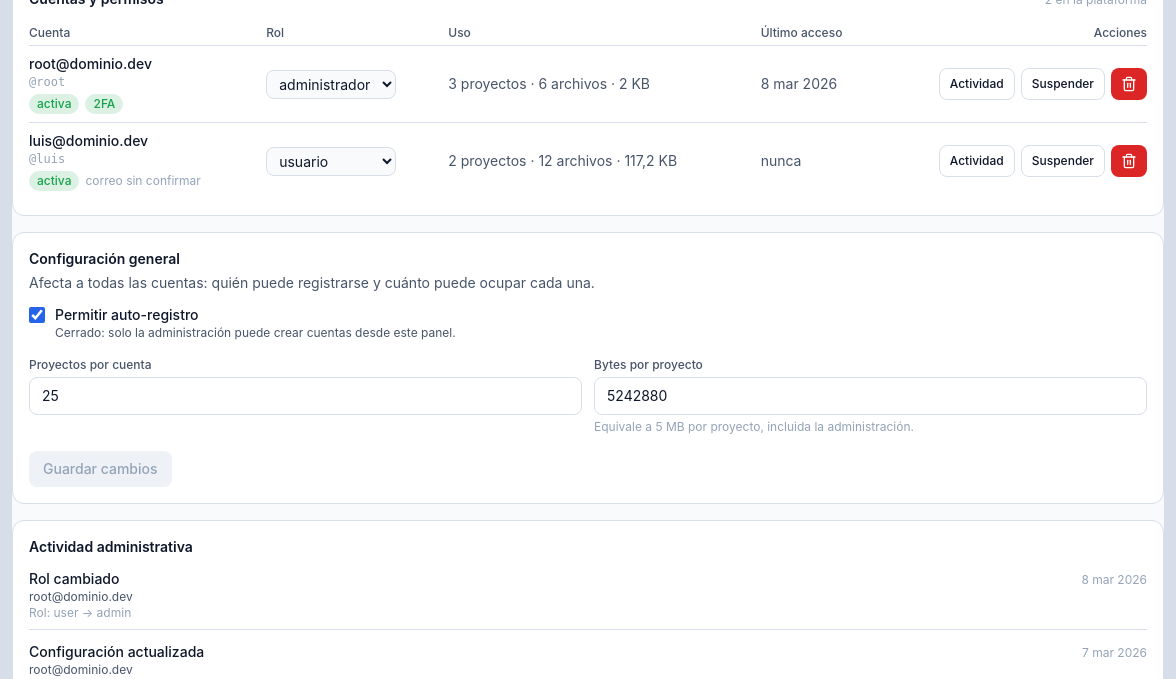
Test: AdminPage › si otra pestaña cambia un valor, el servidor manda
(page scrolled)
Replace the text in the number field labelled "Proyectos por cuenta" with "7" at {"x": 306, "y": 396}, box [29,377,582,415]
(page scrolled)
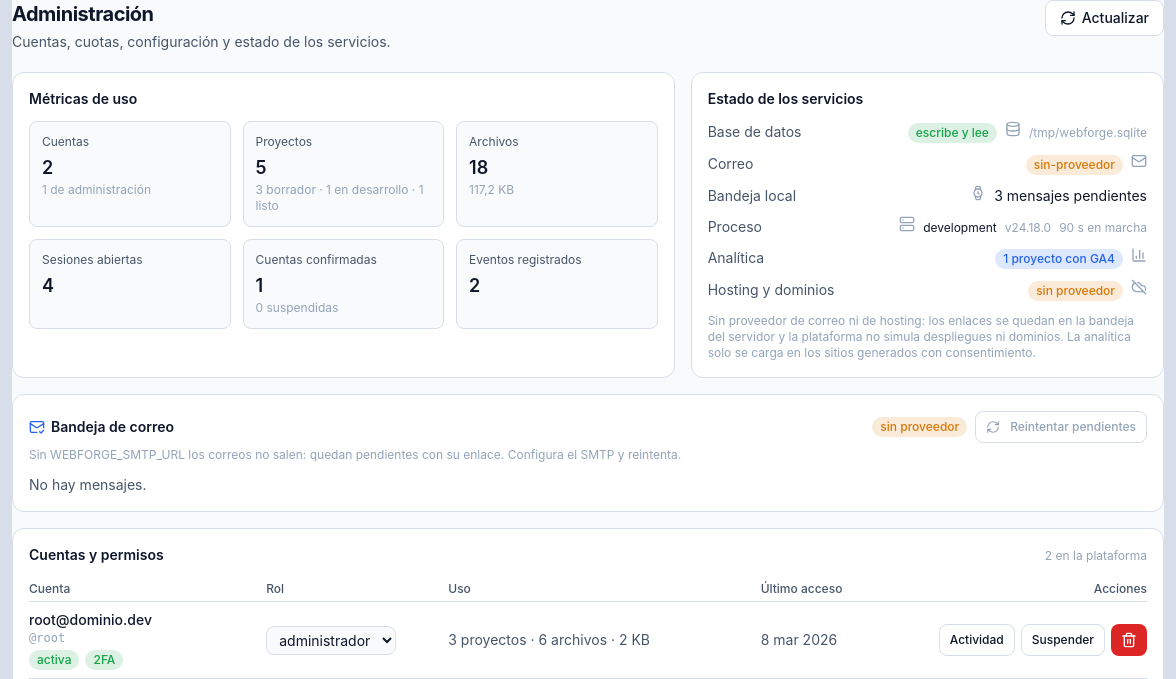
Click the button "Actualizar" at {"x": 1104, "y": 18}, box [1045,0,1164,36]
(page scrolled)
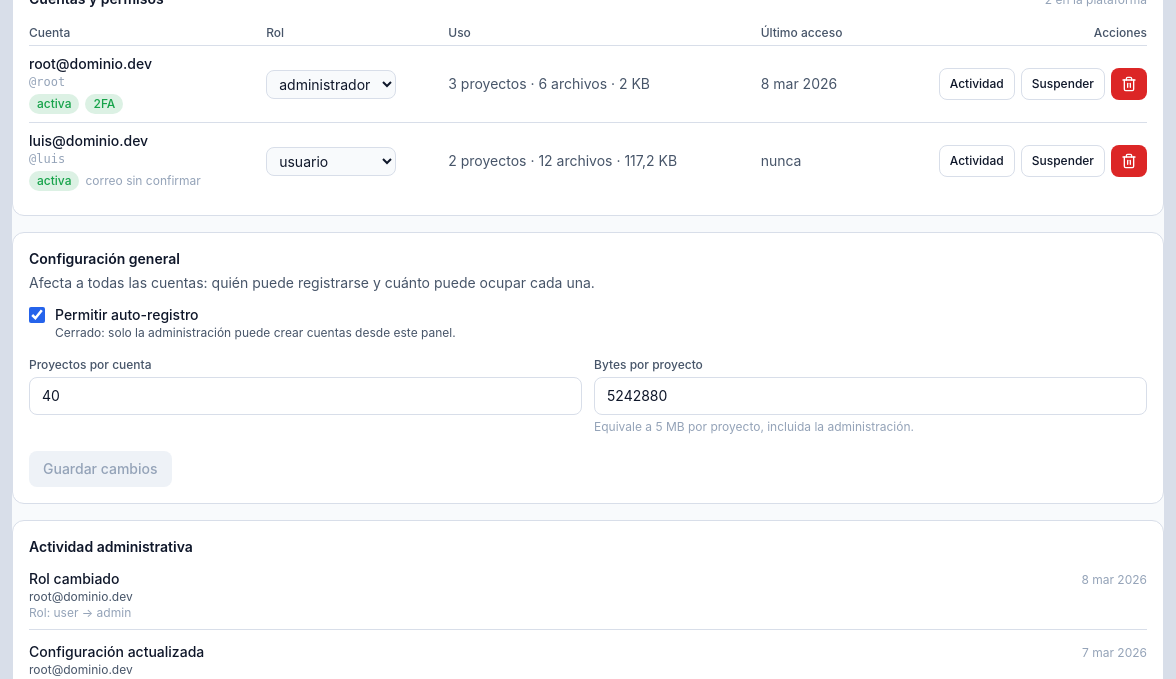
Now the number field labelled "Proyectos por cuenta" holds "40", box [29,377,582,415]
Now the button "Guardar cambios" is disabled, box [29,451,172,487]
